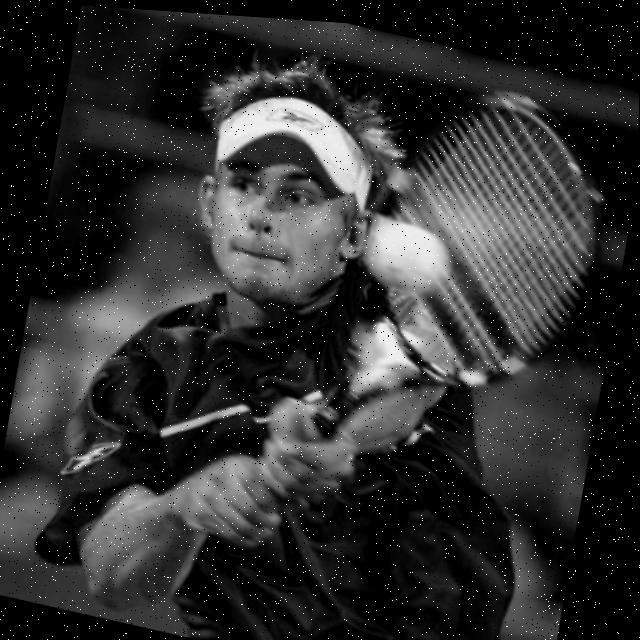face: (186, 101, 372, 319)
